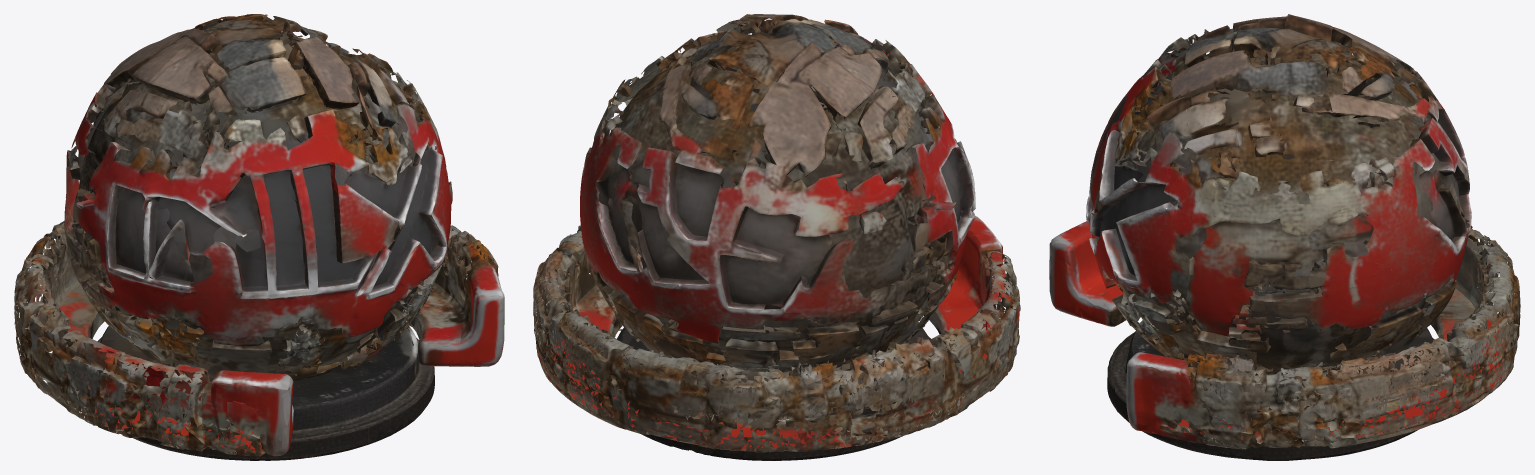
The model's file is blender_mlx_slate_shiny_paint_deep_displacement_seed101_512.glb.
The picture shows the model from 3 angles, left to right: view 1: azimuth 30°, elevation 25°; view 2: azimuth 150°, elevation 25°; view 3: azimuth 270°, elevation 25°; orthographic projection.
Visible parts, largest first — view 1: world; view 2: world; view 3: world.
Part boxes in pixels (box(x1,y1,x2,y2)): world: box(14, 14, 504, 460); world: box(533, 14, 1020, 460); world: box(1049, 14, 1520, 460).
Bounding box in the file's own units: 0.9762 × 0.8078 × 0.9691.
1 material, 1 textured.
